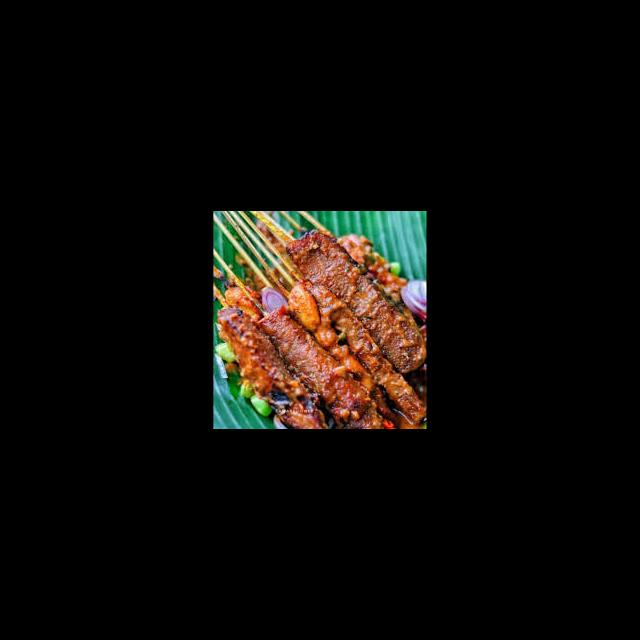food_waste: (264, 248, 428, 424)
